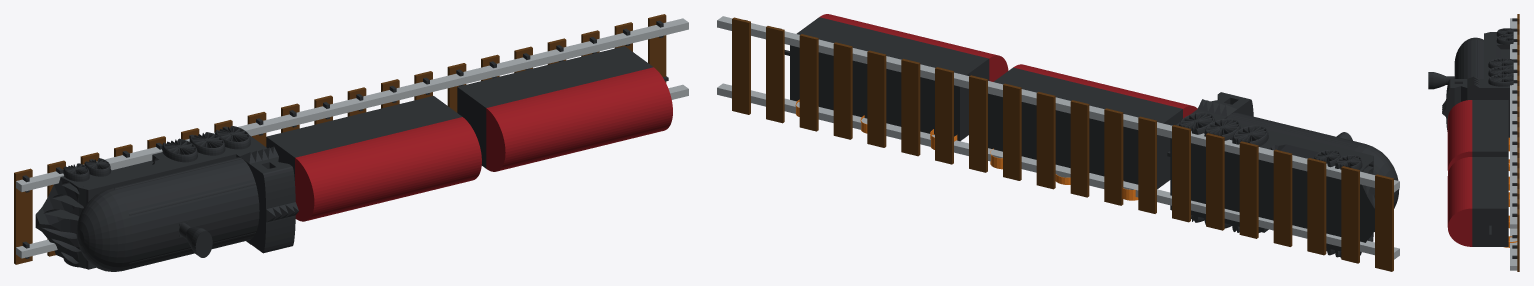
Rendered from tinker.obj.
3 renders of one model, left to right at view 1: azimuth 30°, elevation 25°; view 2: azimuth 150°, elevation 25°; view 3: azimuth 270°, elevation 25°, orthographic. The views are drawn at different scales.
Visible parts, largest first — view 1: group_0_2829873, group_0_9771553, group_0_10988977, group_0_6306067; view 2: group_0_6306067, group_0_2829873, group_0_10988977, group_0_9771553, group_0_16089887; view 3: group_0_2829873, group_0_9771553, group_0_10988977, group_0_6306067, group_0_16089887.
Boxes of the visible parts, x1,y1,x2,y2 form: group_0_2829873: (22, 20, 668, 271); group_0_9771553: (295, 67, 672, 221); group_0_10988977: (16, 18, 688, 258); group_0_6306067: (14, 14, 666, 264); group_0_6306067: (732, 17, 1393, 271); group_0_2829873: (745, 17, 1399, 257); group_0_10988977: (717, 16, 1399, 259); group_0_9771553: (819, 14, 1197, 118); group_0_16089887: (795, 99, 1138, 200); group_0_2829873: (1428, 18, 1517, 258); group_0_9771553: (1447, 100, 1472, 246); group_0_10988977: (1510, 18, 1517, 270); group_0_6306067: (1517, 14, 1519, 271); group_0_16089887: (1504, 137, 1517, 247).
Size of the model in its own units: 200 by 27 by 37.5.
